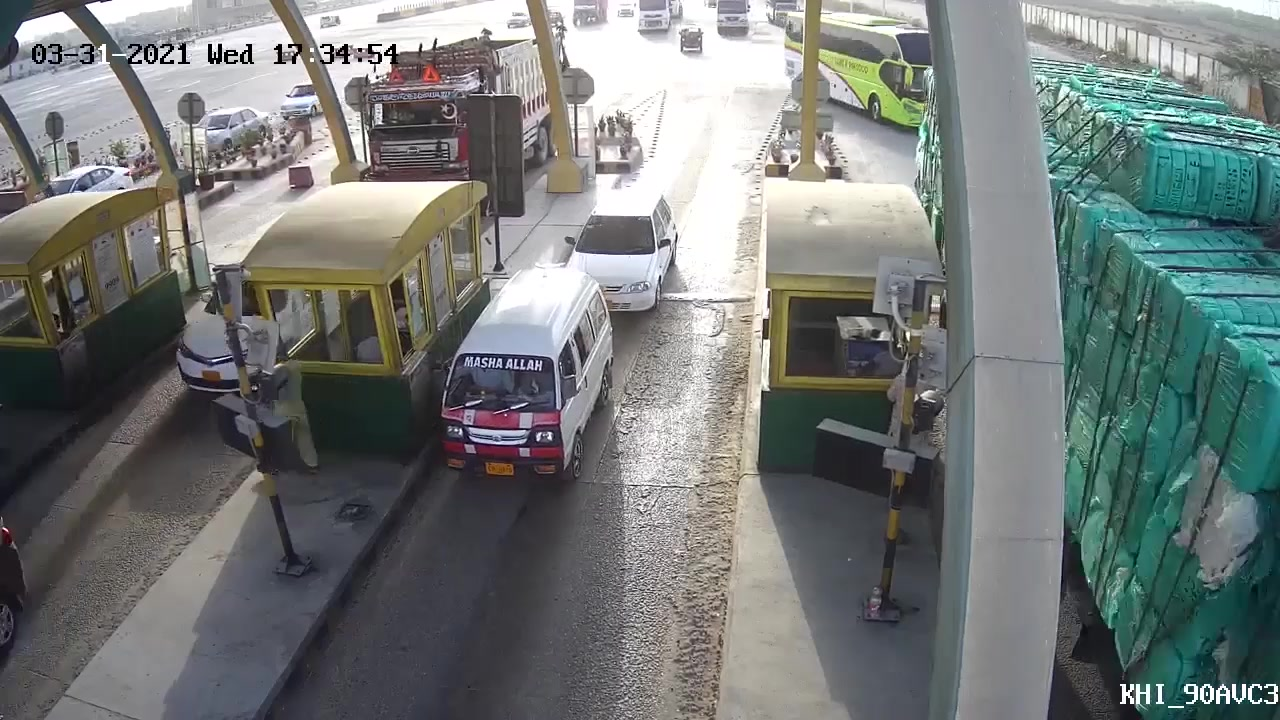F1: (435, 264, 624, 495)
